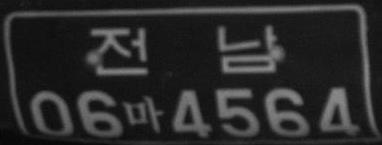0: (29, 89, 74, 135)
4: (318, 85, 359, 138), (172, 89, 213, 137)
5: (214, 87, 261, 138)
6: (263, 86, 310, 138), (76, 89, 124, 138)
마: (125, 94, 163, 134)
전남_D: (89, 25, 278, 76)
